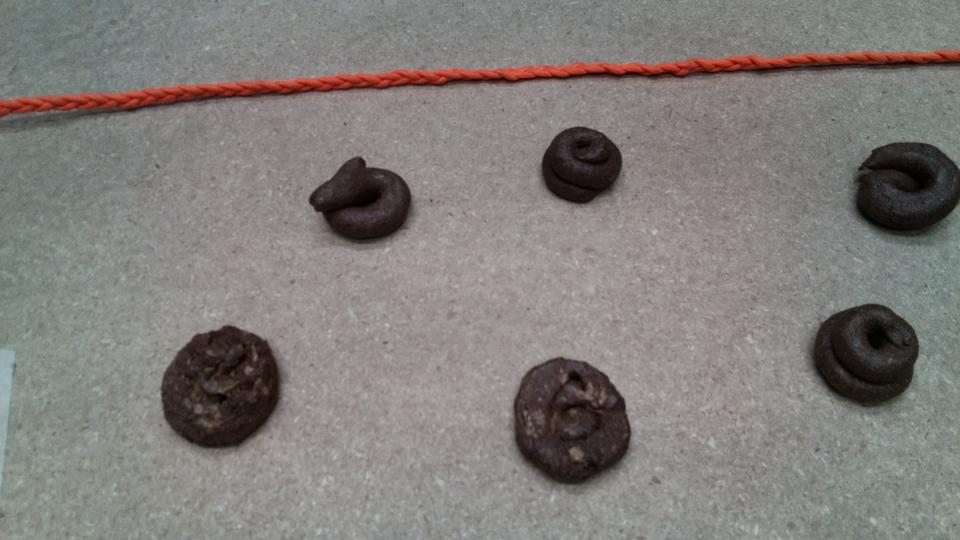poop: (158, 320, 289, 455), (509, 355, 636, 483), (805, 301, 922, 409), (849, 135, 957, 240), (317, 155, 413, 251), (540, 130, 621, 208)
rope: (1, 67, 430, 120), (425, 48, 960, 84)
